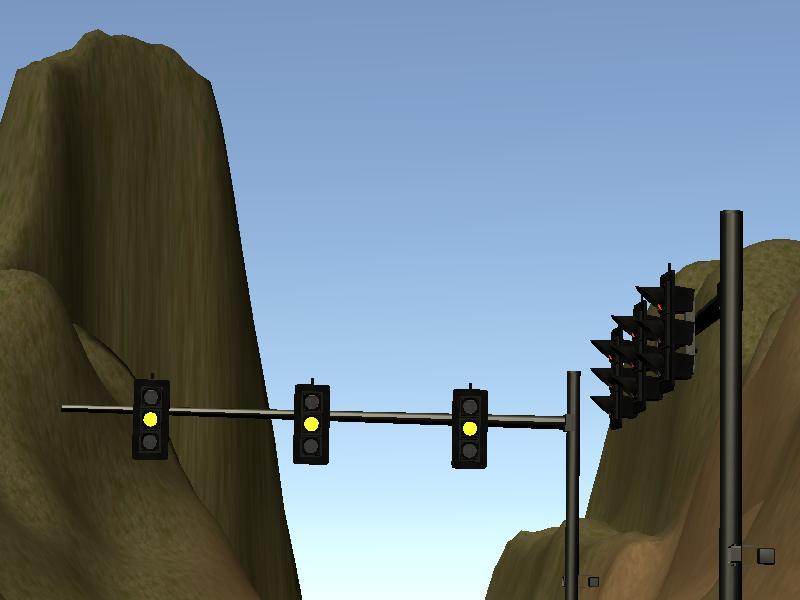Yellow: (450, 388, 488, 470), (292, 383, 330, 465), (131, 380, 169, 462)
